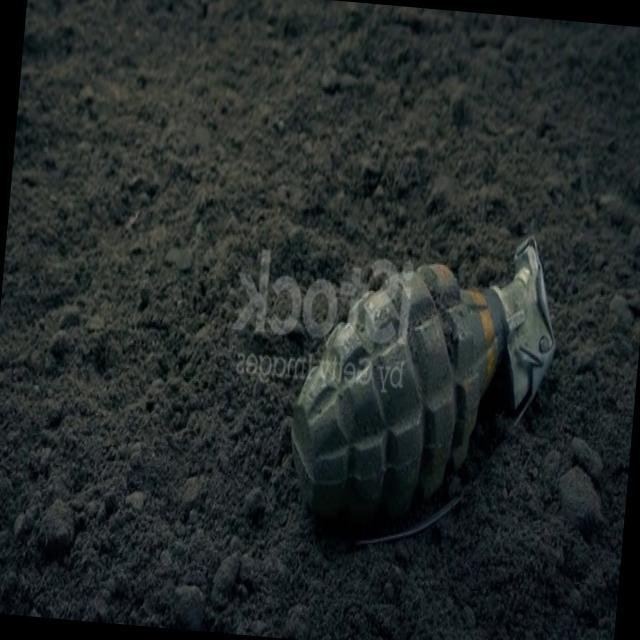grenade: (276, 214, 568, 568)
